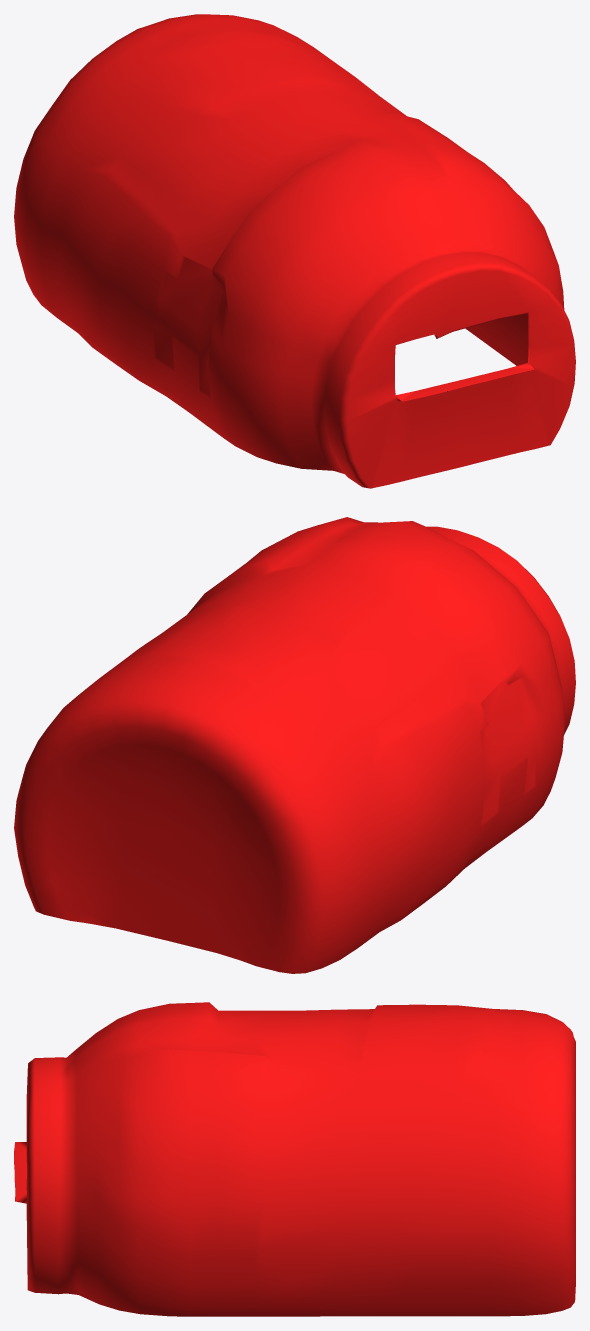
Rendered from picklesPot_LOW.FBX.
3 views of the same model, one above another, from view 1: azimuth 30°, elevation 25°; view 2: azimuth 150°, elevation 25°; view 3: azimuth 270°, elevation 25° (orthographic). The views are drawn at different scales.
Visible parts, largest first — view 1: Object001, Object002, Object001.Cage003; view 2: Object001, Object002; view 3: Object001, Object002.
Boxes of the visible parts, left/top/right/bottom form: Object001: left=14, top=14, right=575, bottom=488; Object002: left=14, top=14, right=575, bottom=487; Object001.Cage003: left=465, top=313, right=528, bottom=365; Object001: left=14, top=517, right=575, bottom=973; Object002: left=14, top=517, right=575, bottom=973; Object001: left=14, top=1002, right=575, bottom=1316; Object002: left=14, top=1002, right=575, bottom=1316.
Bounding box in the file's own units: 998 × 717 × 1564.
